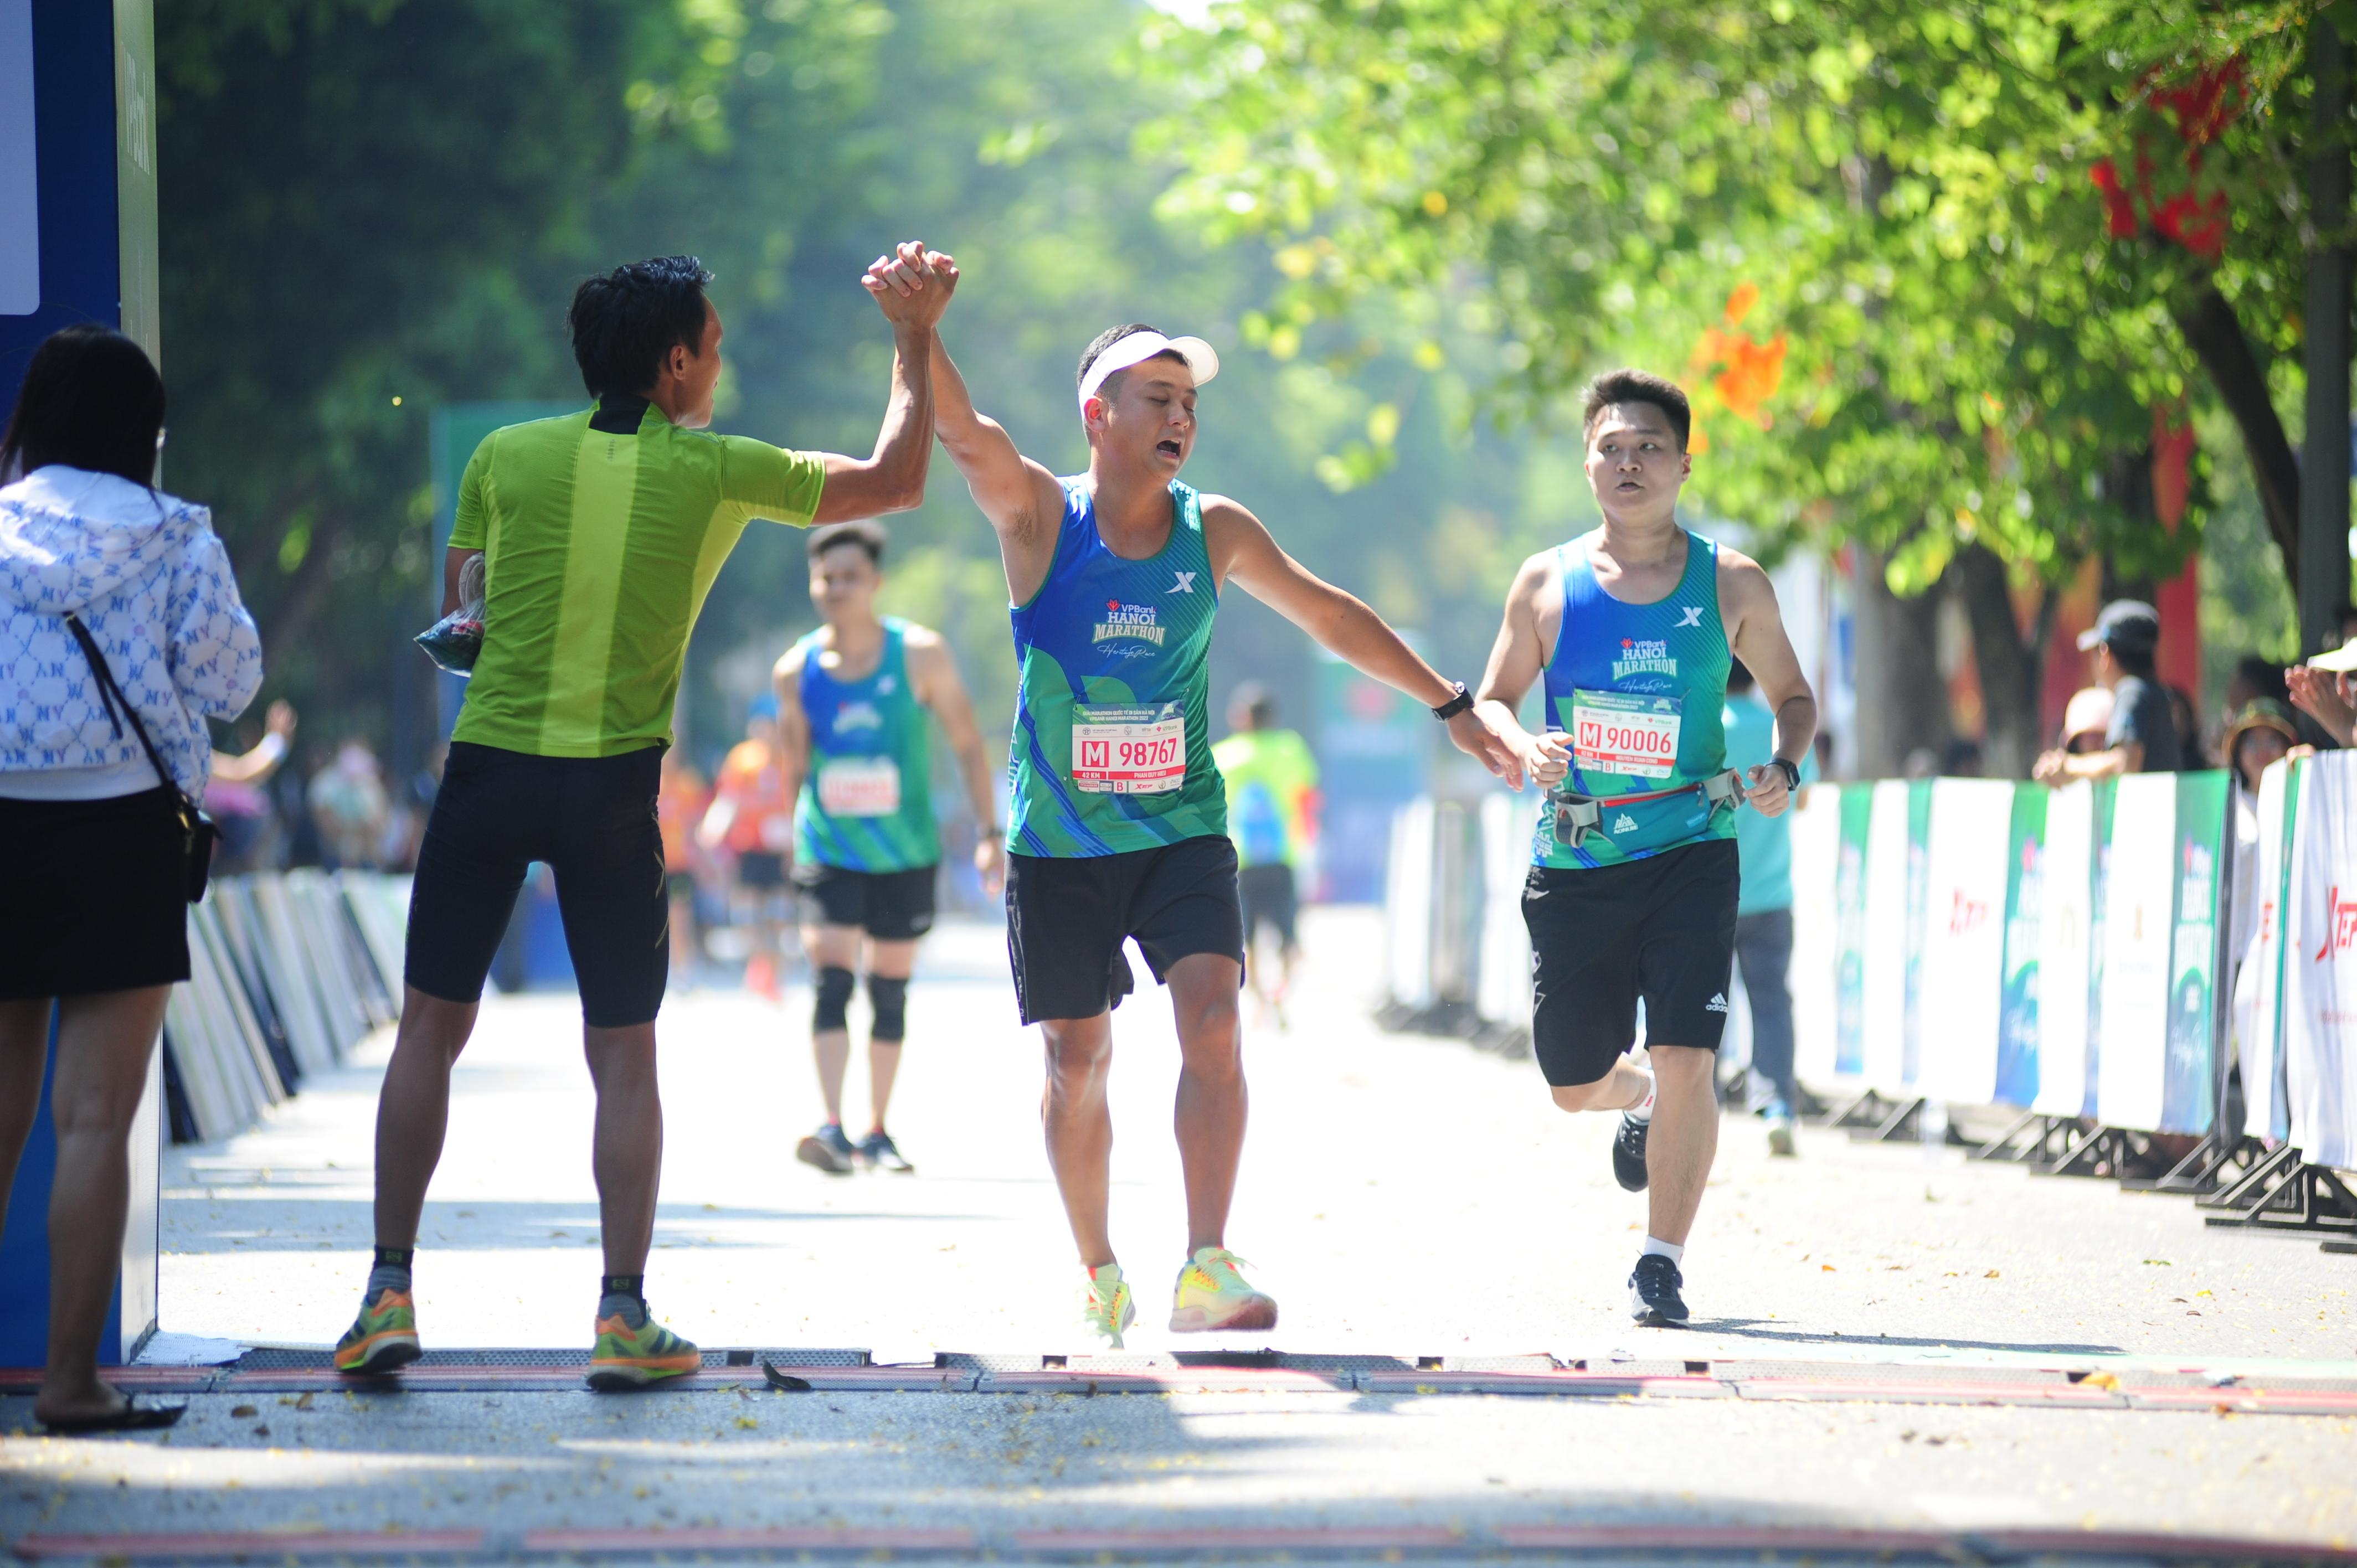bib: (1073, 705, 1188, 791), (1575, 689, 1678, 782), (821, 758, 899, 815)
